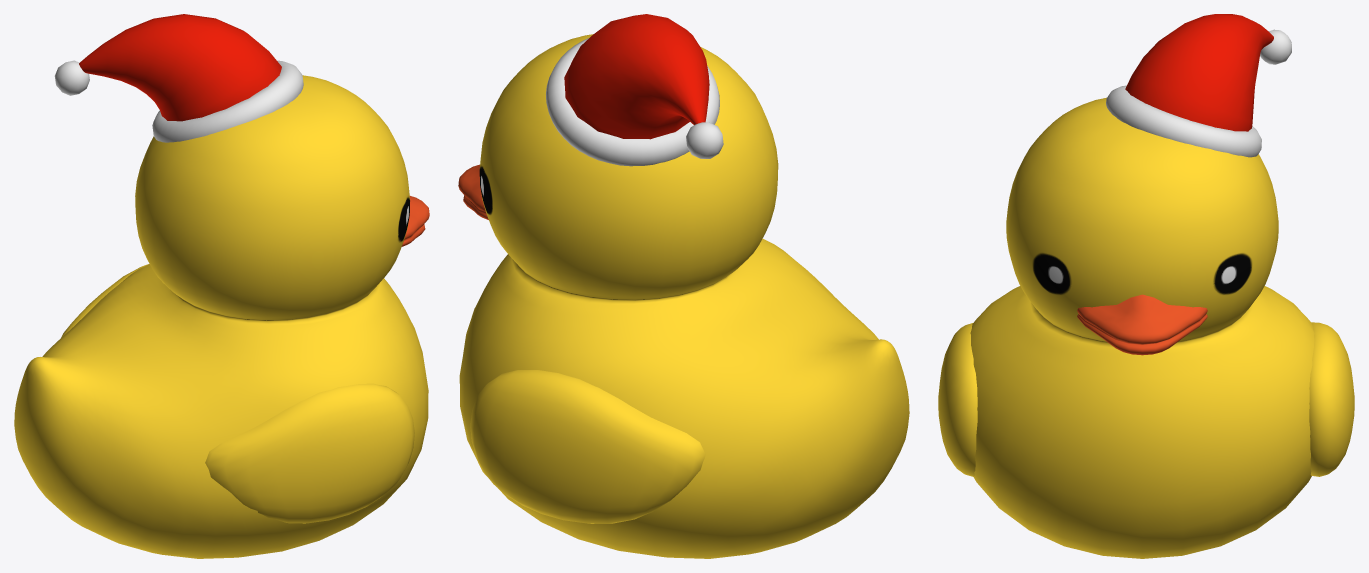
The model's file is bcduck.glb.
3 renders of one model, left to right at view 1: azimuth 30°, elevation 25°; view 2: azimuth 150°, elevation 25°; view 3: azimuth 270°, elevation 25°, orthographic. The views are drawn at different scales.
Parts seen in each view (by area): view 1: boostcampDuck, colorPart, hatWhitePart; view 2: boostcampDuck, colorPart, hatWhitePart; view 3: boostcampDuck, colorPart, hatWhitePart.
Boxes of the visible parts, x1,y1,x2,y2 form: boostcampDuck: [14, 75, 429, 558]; colorPart: [79, 14, 281, 121]; hatWhitePart: [54, 60, 303, 142]; boostcampDuck: [458, 34, 909, 558]; colorPart: [564, 14, 709, 139]; hatWhitePart: [546, 38, 723, 166]; boostcampDuck: [938, 97, 1354, 558]; colorPart: [1125, 14, 1273, 131]; hatWhitePart: [1106, 29, 1291, 157].
Size of the model in its own units: 2.05 by 2.4 by 1.83.
4 materials, 1 textured.
